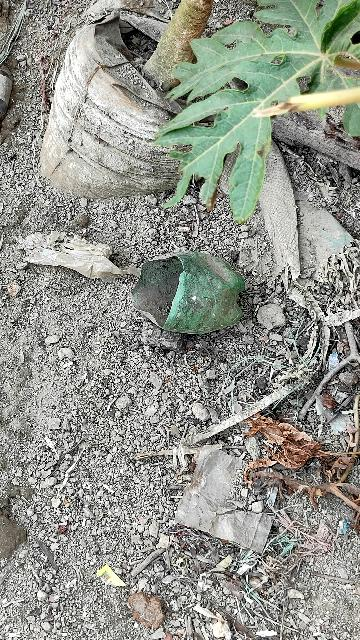bottle: (128, 256, 254, 335)
